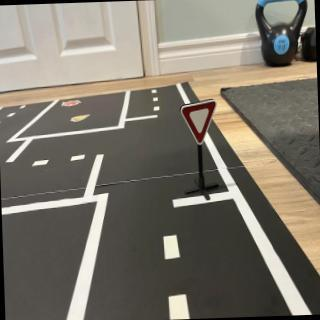sign_yield: (181, 101, 219, 147)
